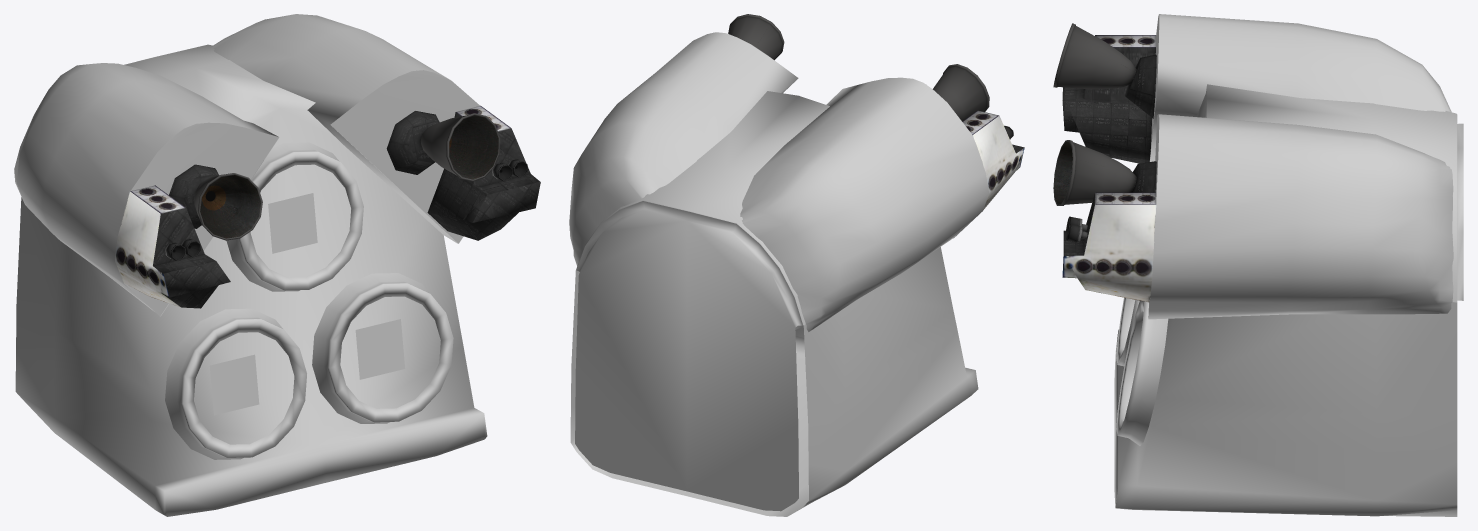
File: SpaceShuttle_baked.fbx
3 views of the same model, side by side, from view 1: azimuth 30°, elevation 25°; view 2: azimuth 150°, elevation 25°; view 3: azimuth 270°, elevation 25° (orthographic). The views are drawn at different scales.
Parts seen in each view (by area): view 1: bayBack, MiniEngines; view 2: bayBack, MiniEngines; view 3: bayBack, MiniEngines.
Boxes of the visible parts, bbox=[...] form: bayBack: bbox=[14, 14, 487, 516]; MiniEngines: bbox=[115, 105, 540, 308]; bayBack: bbox=[569, 32, 988, 516]; MiniEngines: bbox=[728, 14, 1024, 210]; bayBack: bbox=[1114, 14, 1463, 516]; MiniEngines: bbox=[1053, 23, 1156, 302].
Size of the model in its own units: 28.69 by 28.21 by 26.44.
